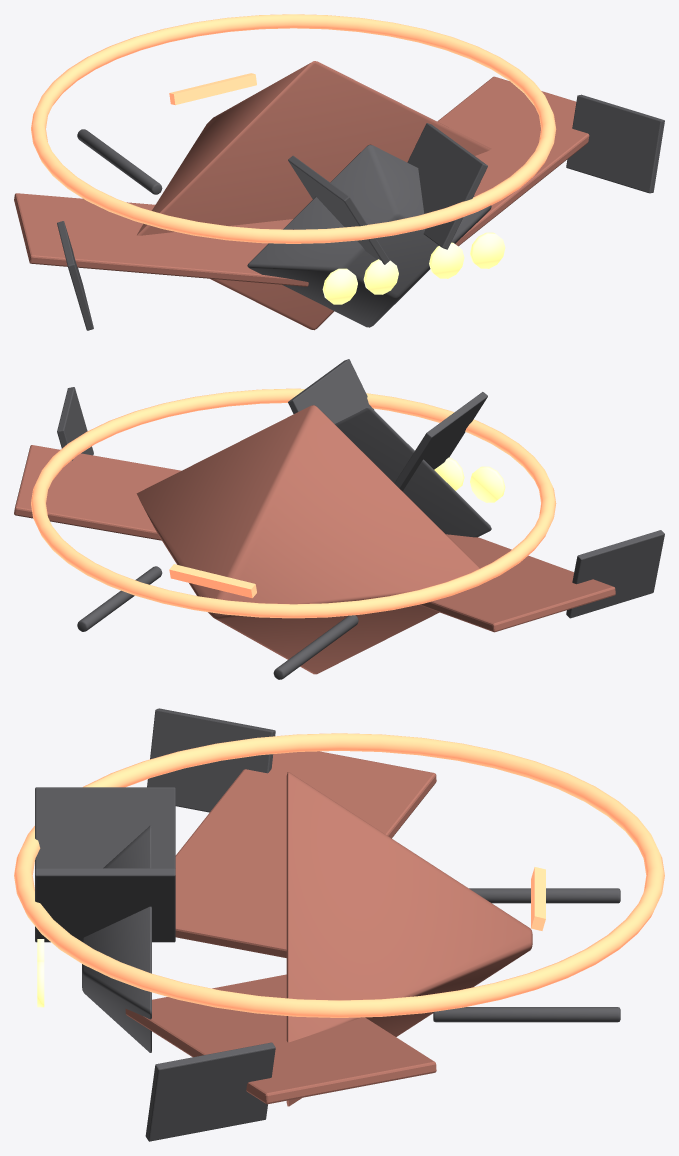
File: boss_phantom.glb
The picture shows the model from 3 angles, top to bottom: view 1: azimuth 30°, elevation 25°; view 2: azimuth 150°, elevation 25°; view 3: azimuth 270°, elevation 25°; orthographic projection. The views are drawn at different scales.
Visible parts, largest first — view 1: Rumpf.004, Halo, Heck.001, Fluegel-1.001, Fluegel1.002, Spitze1.002, Leitwerk1.001, Leitwerk-1.001, Lanze-1, Auge.010, Spitze-1.002, Duese-10.9 (+3 smaller); view 2: Rumpf.004, Halo, Fluegel1.002, Fluegel-1.001, Heck.001, Spitze-1.002, Leitwerk1.001, Leitwerk-1.001, Auge.010, Lanze-1, Spitze1.002, Lanze1 (+2 smaller); view 3: Rumpf.004, Halo, Fluegel-1.001, Fluegel1.002, Leitwerk-1.001, Spitze1.002, Leitwerk1.001, Spitze-1.002, Heck.001, Lanze1, Lanze-1, Auge.010.
Part boxes in pixels (left/top/right/bottom): Rumpf.004: left=137, top=61, right=491, bottom=330; Halo: left=31, top=14, right=556, bottom=243; Heck.001: left=247, top=144, right=491, bottom=327; Fluegel-1.001: left=14, top=193, right=308, bottom=286; Fluegel1.002: left=437, top=76, right=589, bottom=246; Spitze1.002: left=566, top=94, right=664, bottom=193; Leitwerk1.001: left=407, top=123, right=487, bottom=249; Leitwerk-1.001: left=288, top=155, right=389, bottom=264; Lanze-1: left=77, top=129, right=162, bottom=194; Auge.010: left=169, top=73, right=256, bottom=105; Spitze-1.002: left=57, top=221, right=93, bottom=330; Duese-10.9: left=322, top=268, right=357, bottom=304; Rumpf.004: left=136, top=405, right=479, bottom=674; Halo: left=31, top=388, right=556, bottom=618; Fluegel1.002: left=14, top=445, right=181, bottom=540; Fluegel-1.001: left=419, top=534, right=615, bottom=632; Heck.001: left=335, top=408, right=491, bottom=537; Spitze-1.002: left=566, top=530, right=664, bottom=618; Leitwerk1.001: left=288, top=359, right=373, bottom=423; Leitwerk-1.001: left=394, top=392, right=487, bottom=491; Auge.010: left=169, top=564, right=256, bottom=598; Lanze-1: left=273, top=615, right=358, bottom=679; Spitze1.002: left=57, top=387, right=93, bottom=460; Lanze1: left=77, top=566, right=162, bottom=631; Rumpf.004: left=286, top=772, right=532, bottom=1106; Halo: left=14, top=733, right=664, bottom=1017; Fluegel-1.001: left=175, top=751, right=436, bottom=957; Fluegel1.002: left=125, top=974, right=436, bottom=1104; Leitwerk-1.001: left=35, top=787, right=175, bottom=868; Spitze1.002: left=145, top=1042, right=275, bottom=1141; Leitwerk1.001: left=35, top=868, right=175, bottom=942; Spitze-1.002: left=147, top=708, right=275, bottom=812; Heck.001: left=82, top=825, right=151, bottom=1052; Lanze1: left=433, top=1007, right=620, bottom=1022; Lanze-1: left=469, top=888, right=620, bottom=903; Auge.010: left=531, top=867, right=545, bottom=930.
Size of the model in its own units: 7.29 by 3.14 by 5.56.
